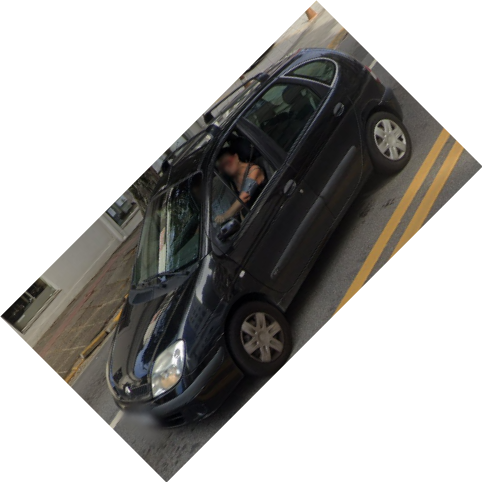car: (103, 47, 414, 429)
